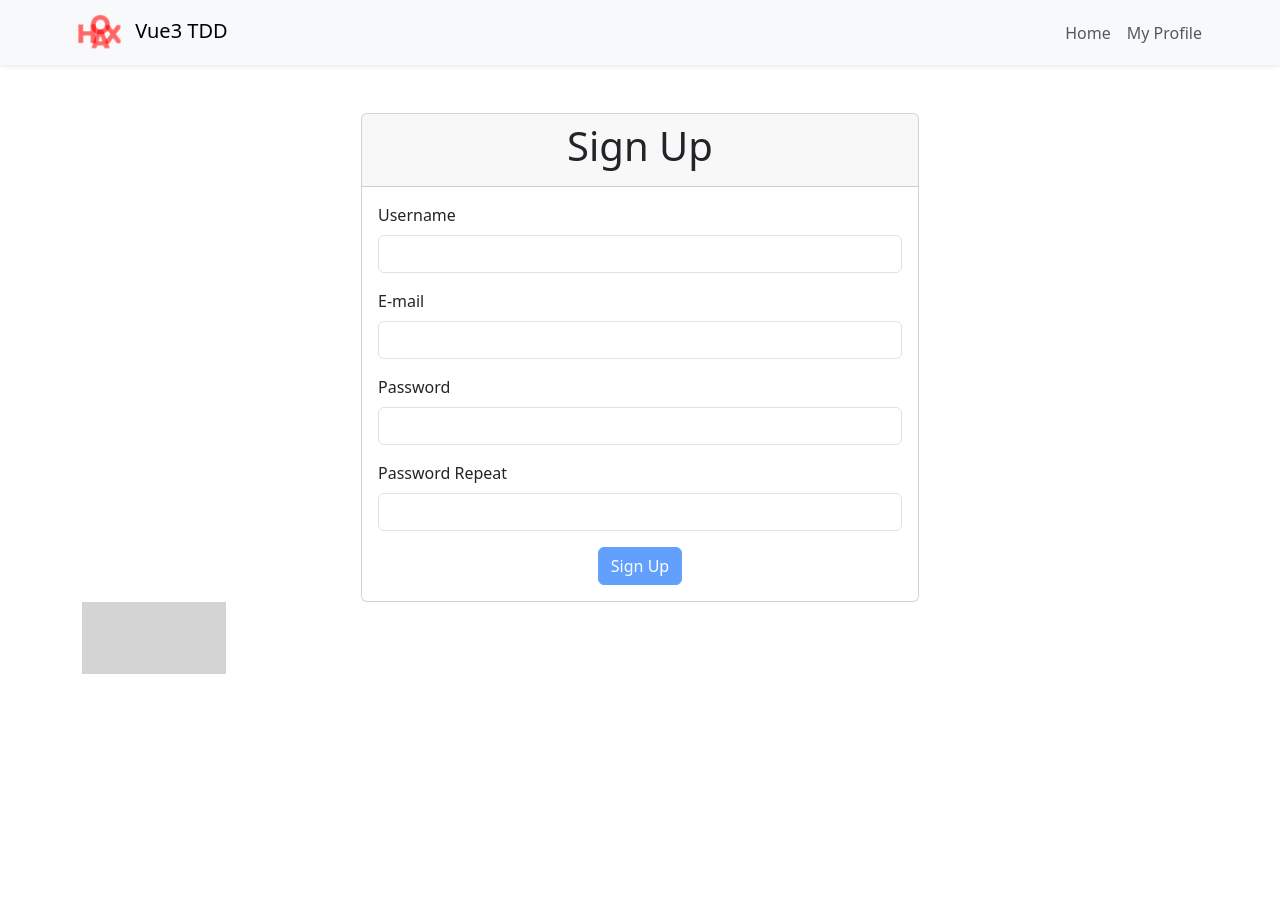
Roteamento › Exibir a página home-page depois de clicar no link Home
The image size is (1280, 900).
Click the link "Home" at (1088, 33), box [1065,22,1111,44]
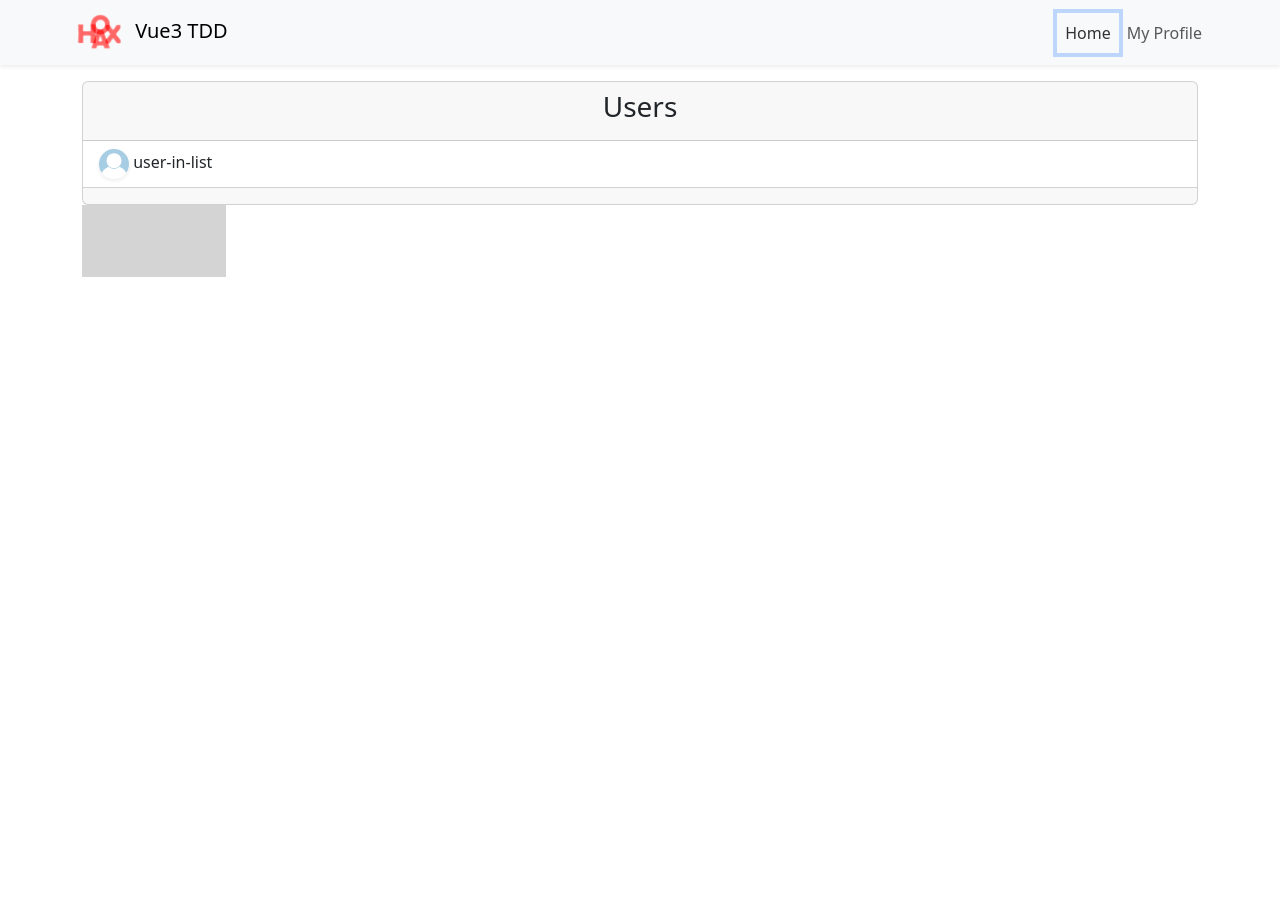
Result: the element with test id "home-page" is shown at [82,81,1198,205]
